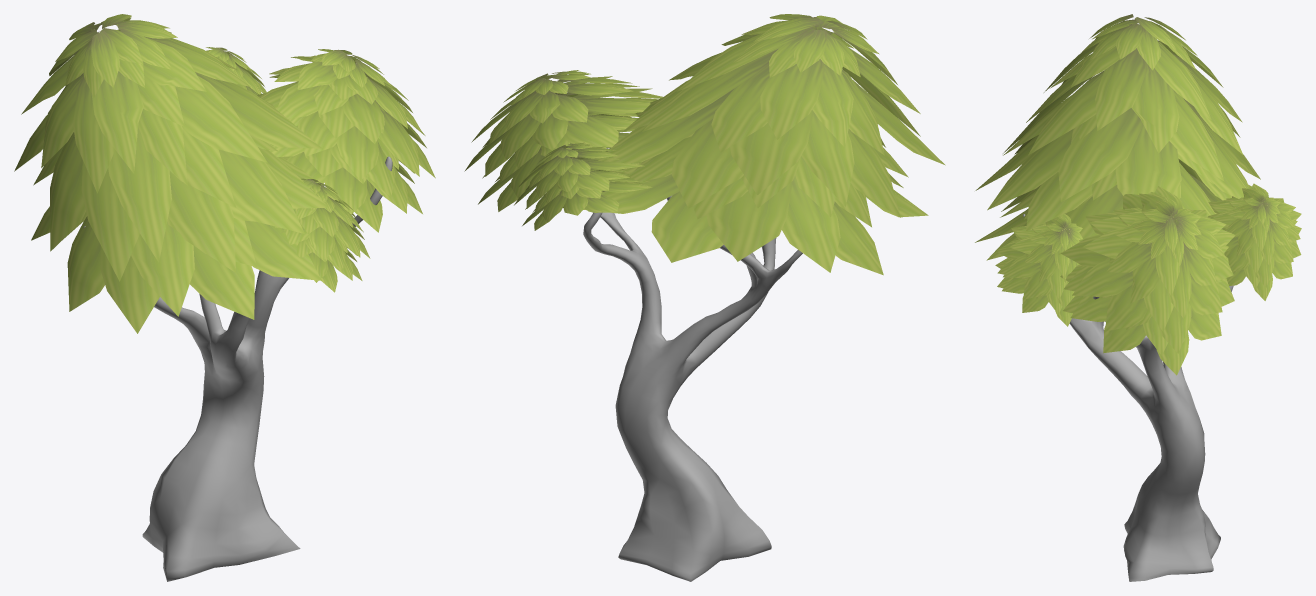
File: tree1.fbx
3 renders of one model, left to right at view 1: azimuth 30°, elevation 25°; view 2: azimuth 150°, elevation 25°; view 3: azimuth 270°, elevation 25°, orthographic. The views are drawn at different scales.
Parts seen in each view (by area): view 1: arbre02:Group5549; view 2: arbre02:Group5549; view 3: arbre02:Group5549.
Boxes of the visible parts, x1,y1,x2,y2 form: arbre02:Group5549: [14, 14, 435, 581]; arbre02:Group5549: [464, 14, 945, 581]; arbre02:Group5549: [975, 14, 1301, 581].
Bounding box in the file's own units: 383 × 501 × 305.
